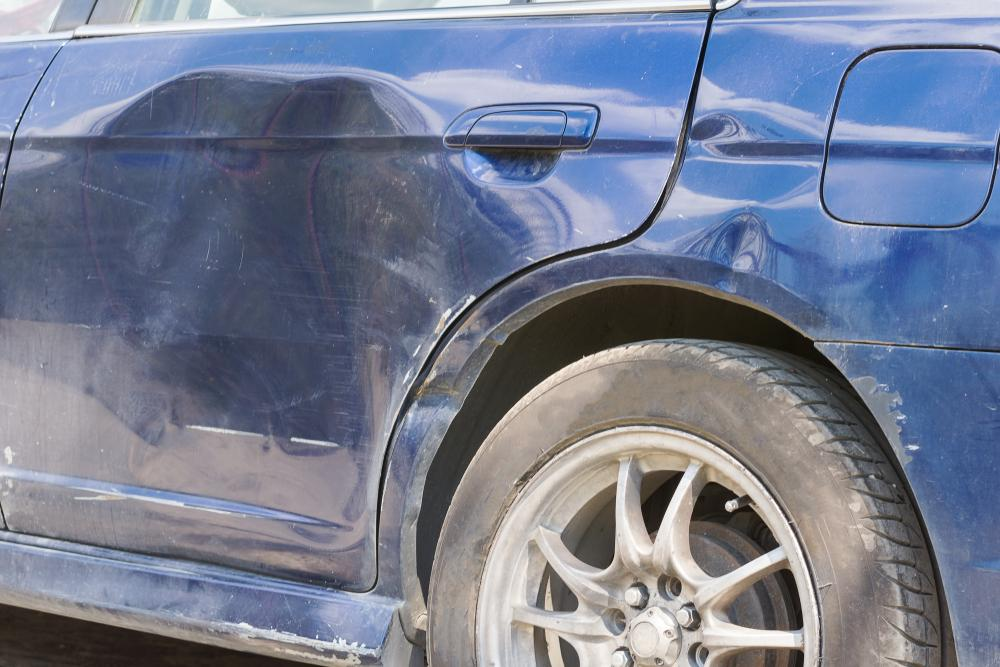dent: (83, 70, 533, 549), (677, 108, 823, 295)
scratch: (219, 616, 382, 667)
